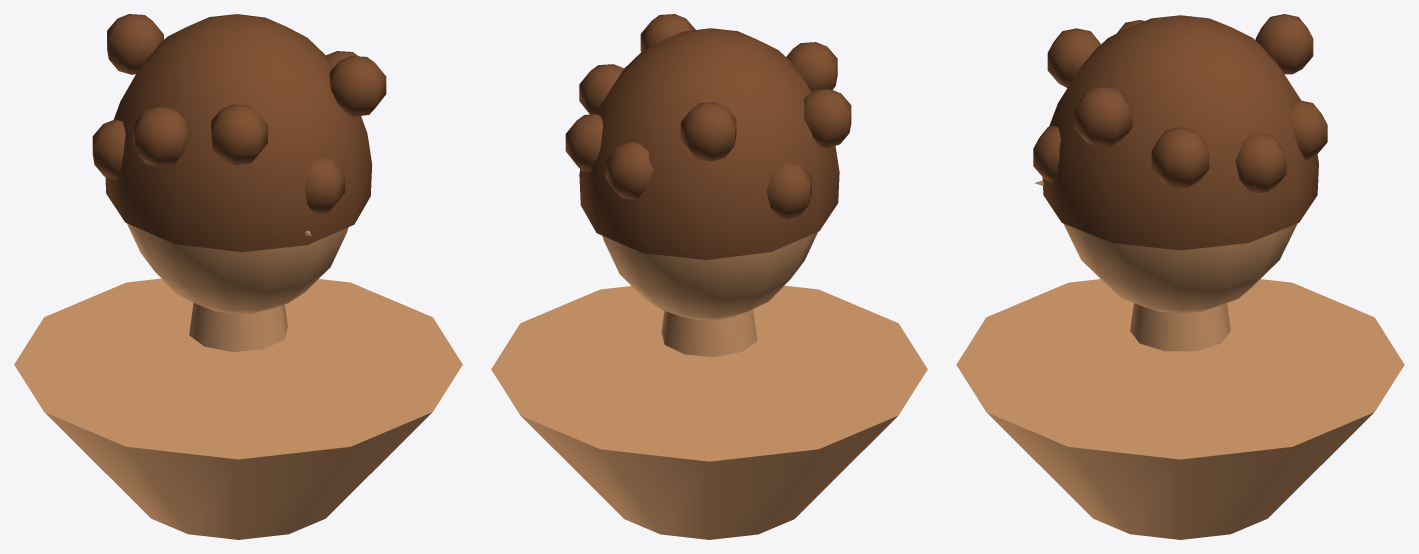
The model's file is raw_001.glb.
3 renders of one model, left to right at view 1: azimuth 30°, elevation 25°; view 2: azimuth 150°, elevation 25°; view 3: azimuth 270°, elevation 25°, orthographic. The views are drawn at different scales.
Bounding box in the file's own units: 1.87 × 2.17 × 1.87.
